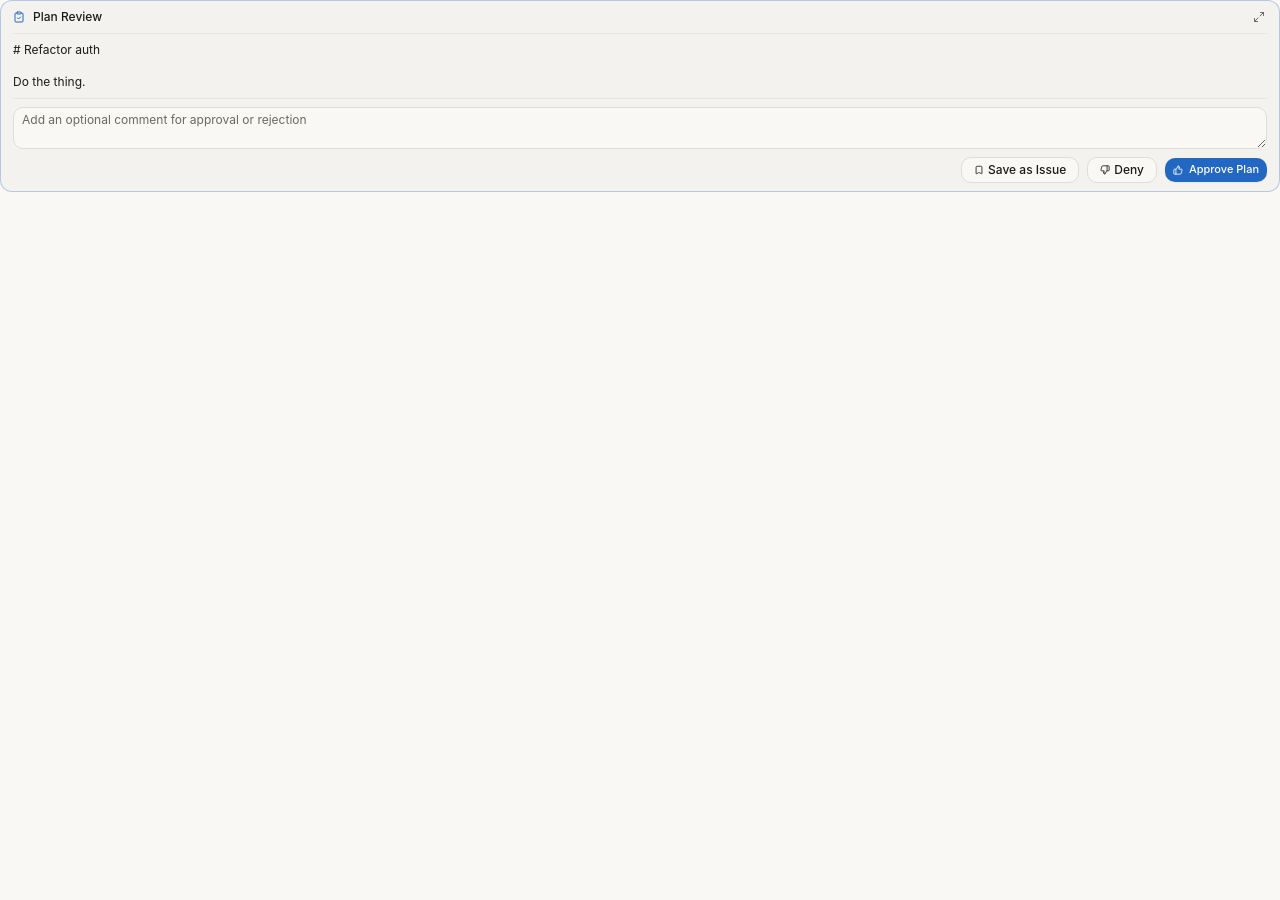
Test: PlanReviewRenderer — save as issue › opens dialog with extracted default title when Save as Issue is clicked
Click the button "Save as Issue" at (1020, 170), box x1=961 y1=157 x2=1079 y2=183
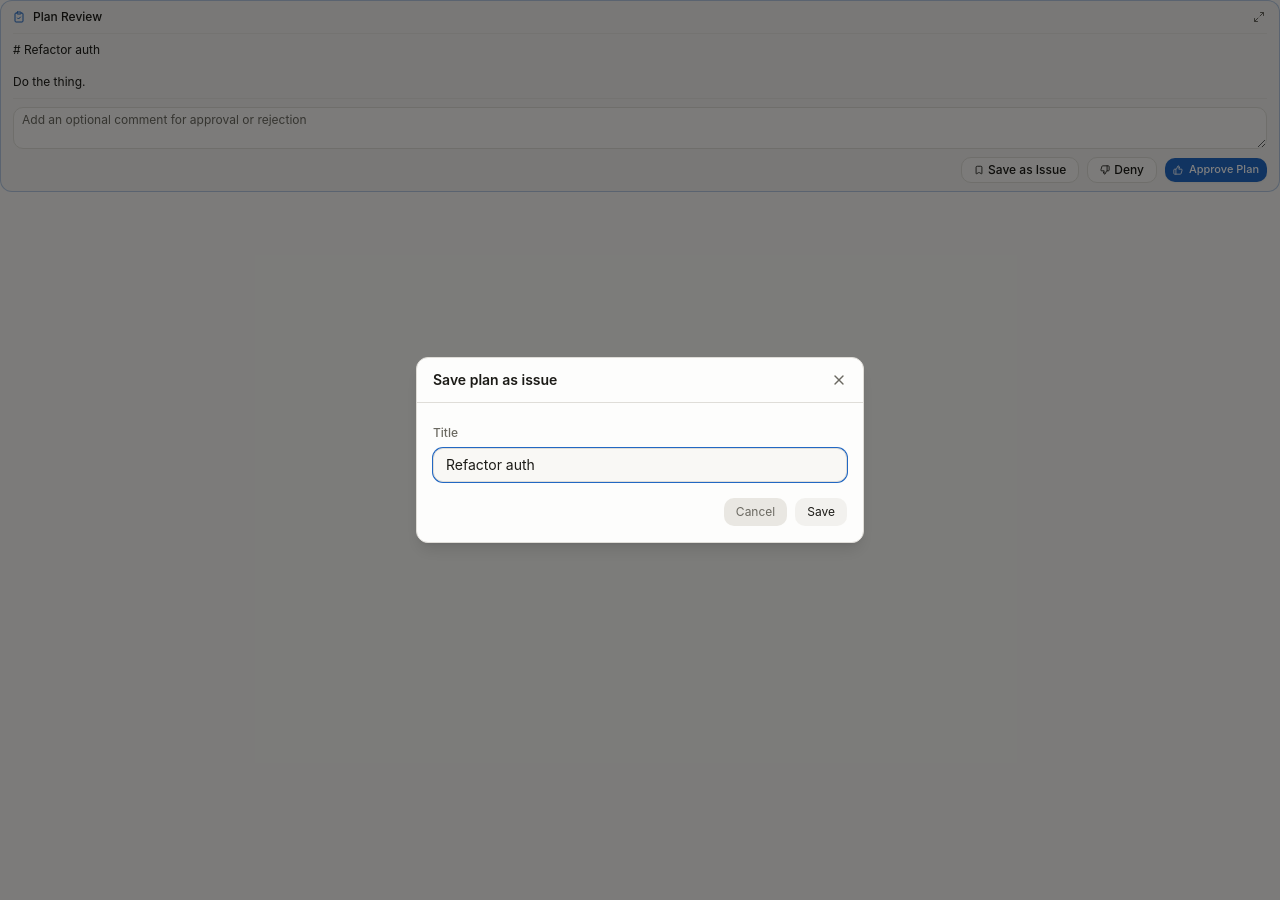
Now the field labelled "Title" holds "Refactor auth", box x1=433 y1=448 x2=847 y2=482
